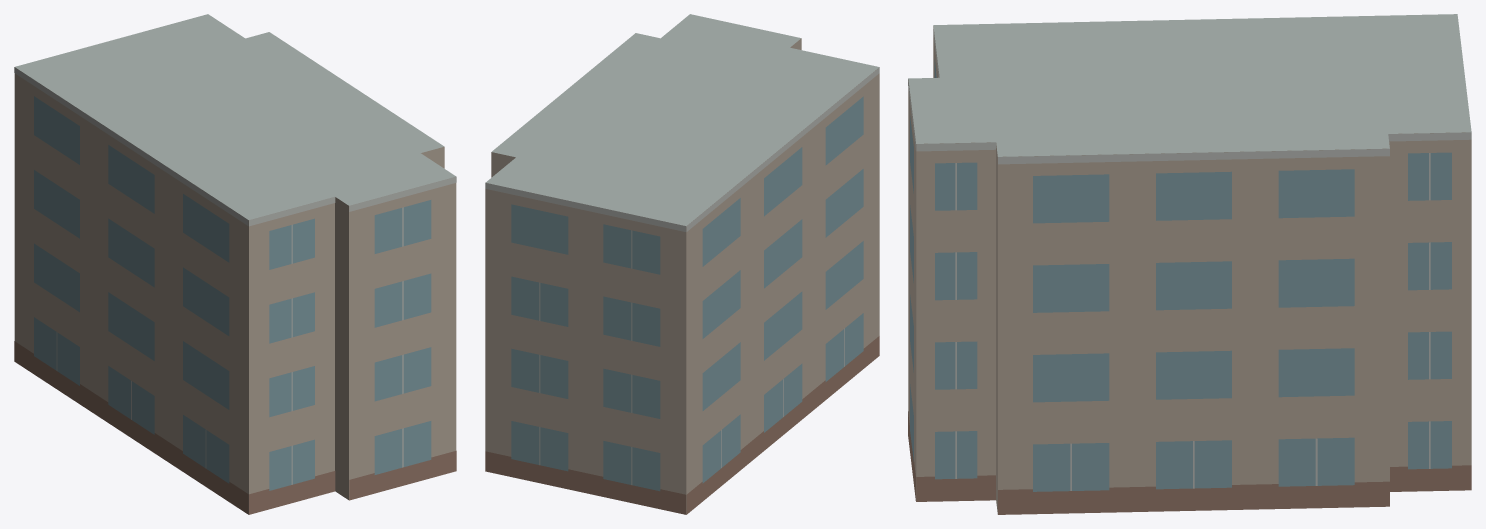
Rendered from survey-upis-32740568.glb.
The picture shows the model from 3 angles, left to right: view 1: azimuth 30°, elevation 25°; view 2: azimuth 150°, elevation 25°; view 3: azimuth 270°, elevation 25°; orthographic projection. The views are drawn at different scales.
Parts seen in each view (by area): view 1: survey-upis-32740568.tmp; view 2: survey-upis-32740568.tmp; view 3: survey-upis-32740568.tmp.
Boxes of the visible parts, box(x1,y1,x2,y2) form: survey-upis-32740568.tmp: box(14, 14, 456, 514); survey-upis-32740568.tmp: box(485, 14, 879, 514); survey-upis-32740568.tmp: box(908, 14, 1471, 514).
Size of the model in its own units: 9.94 by 11.6 by 16.55.
